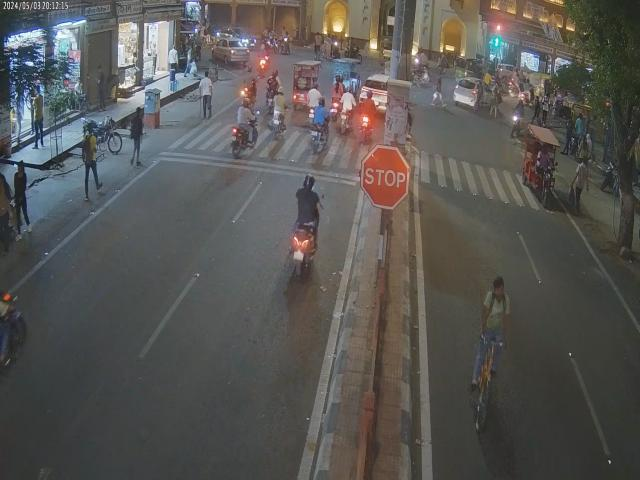auto: (518, 118, 562, 210)
bicycle: (472, 271, 510, 444)
motorbike: (76, 114, 128, 150)
motorbike-rider: (233, 96, 262, 153), (267, 83, 291, 143), (308, 95, 332, 154), (358, 86, 377, 147)
person: (80, 118, 106, 207), (128, 102, 150, 164), (202, 88, 214, 118), (167, 68, 178, 91)
scooty: (288, 172, 326, 282)
